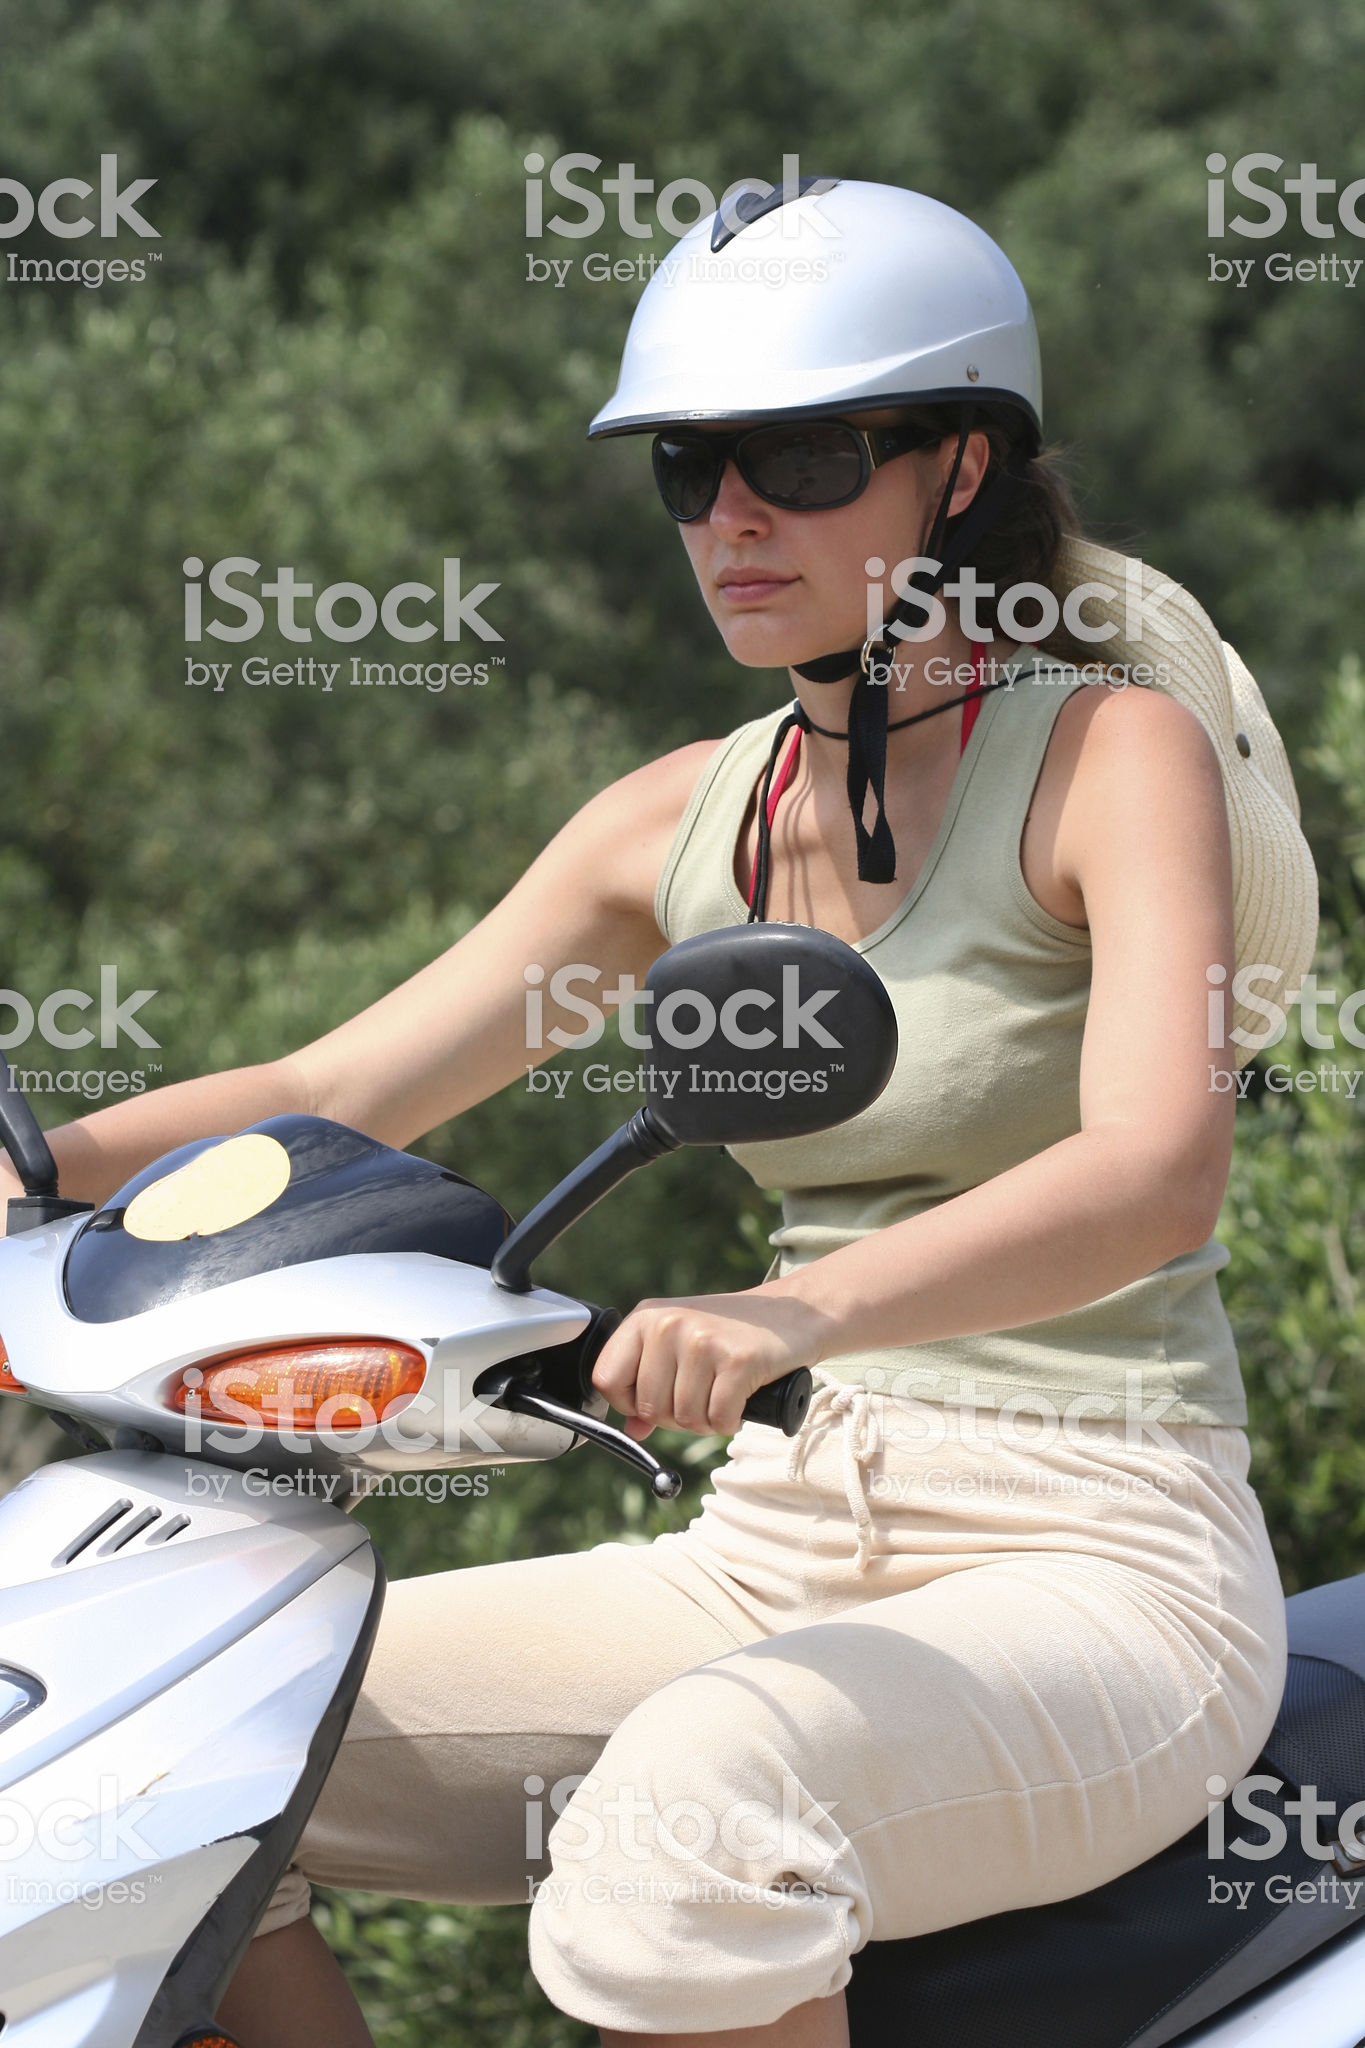helmet: (588, 145, 1051, 463)
